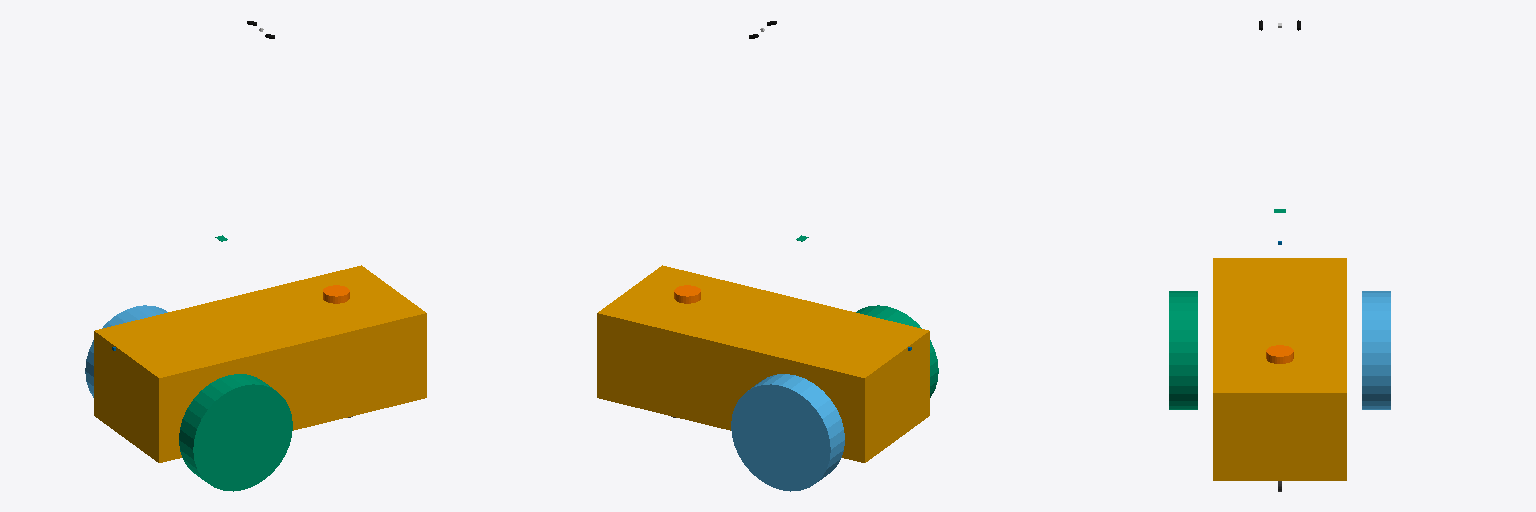
URDF robot description (adam):
<?xml version="1.0"?>

<robot name="adam">
    <link name="base_link">
        <inertial>
            <origin xyz="-0.074 0.0 -0.19" rpy="0 0 -1.57"/>
            <mass value="60"/>
            <inertia ixx="2.529" ixy="-0.004768" ixz="-0.8146" iyy="4.984" iyx="-0.004768" iyz="-0.02831" izz="4.385" izx="-0.8146" izy="-0.02831"/>
        </inertial>

        <collision>
            <origin xyz="0.1465 0 -0.082" rpy="0 0 0"/>
            <geometry>
                <box size="1.02 0.43 0.31" />
            </geometry>
        </collision>

        <visual>
            <origin xyz="0.1465 0 -0.082" rpy="0 0 0"/>
            <geometry>
                <box size="1.02 0.43 0.31" />
            </geometry>
        </visual>
    </link>

    <link name="left_wheel_back">
        <inertial>
            <origin rpy="0 0 0" xyz="0 0 0"/>
            <mass value="4.0"/>
            <inertia ixx="0.08847" ixy="0" ixz="0" iyy="0.1693" iyx="0" iyz="0" izz="0.08847" izx="0" izy="0"/>
        </inertial>

        <collision>
            <origin xyz="0 0 0" rpy="1.57 0 0"/>
            <geometry>
                <cylinder length="0.095" radius="0.19"/>
            </geometry>
        </collision>

        <visual>
            <origin xyz="0 0 0" rpy="1.57 0 0"/>
            <geometry>
                <cylinder length="0.095" radius="0.19"/>
            </geometry>
        </visual>
    </link>

    <link name="right_wheel_back">
        <inertial>
            <origin rpy="0 0 0" xyz="0 0 0"/>
            <mass value="4.0"/>
            <inertia ixx="0.08847" ixy="0" ixz="0" iyy="0.1693" iyx="0" iyz="0" izz="0.08847" izx="0" izy="0"/>
        </inertial>

        <collision>
            <origin xyz="0 0 0" rpy="1.57 0 0"/>
            <geometry>
                <cylinder length="0.095" radius="0.19"/>
            </geometry>
        </collision>

        <visual>
            <origin xyz="0 0 0" rpy="1.57 0 0"/>
            <geometry>
                <cylinder length="0.095" radius="0.19"/>
            </geometry>
        </visual>
    </link>

    <joint name="base_link_to_left_wheel_back" type="continuous">
        <parent link="base_link" />
        <child link="left_wheel_back" />
        <origin xyz="-0.125 0.309 -0.1425"/>
        <axis xyz="0 1 0"/>
    </joint>

    <joint name="base_link_to_right_wheel_back" type="continuous">
        <parent link="base_link" />
        <child link="right_wheel_back" />
        <origin xyz="-0.125 -0.309 -0.1425"/>
        <axis xyz="0 1 0"/>
    </joint>

    <link name="front_wheel_conn">
        <inertial>
            <origin xyz="0.0 0 0" rpy="0 0 0"/>
            <mass value="0.100"/>
            <inertia ixx="0.0001785" ixy="0" ixz="0" iyy="0.0001757" iyx="0" iyz="0" izz="0.00007551" izx="0" izy="0"/>
        </inertial>

        <visual>
            <origin xyz="0 0 0" rpy="0 0 0"/>
            <geometry>
                <box size="0.0499 0.044 0.05215"/>
            </geometry>
        </visual>

        <collision>
            <origin xyz="0 0 0" rpy="0 0 0"/>
            <geometry>
                <box size="0.0499 0.044 0.05215"/>
            </geometry>
        </collision>
    </link>

    <joint name="wheel_front_conn" type="continuous">
        <parent link="base_link"/>
        <child link="front_wheel_conn"/>
        <origin xyz="0.4616 0.0 -0.28815"/>
        <axis xyz="0 0 1"/>
    </joint>


    <link name="wheel_front">
        <inertial>
            <origin xyz="0.0 0 0" rpy="1.57 0 0"/>
            <mass value="0.100"/>
            <inertia ixx="0.0003521" ixy="0" ixz="0" iyy="0.0004586" iyx="0" iyz="0" izz="0.0003521" izx="0" izy="0"/>
        </inertial>

        <visual>
            <origin xyz="0.0 0 0" rpy="1.57 0 0"/>
            <geometry>
                <cylinder length="0.01" radius="0.032"/>
            </geometry>
            <material name="Gray">
                <color rgba="0.3 0.3 0.3 1.0"/>
            </material>
        </visual>
        <collision>
            <origin xyz="0.0 0 0" rpy="1.57 0 0"/>

            <geometry>
                <cylinder length="0.01" radius="0.032"/>
            </geometry>
        </collision>
    </link>

    <joint name="wheel_front_to_conn" type="continuous">
        <parent link="front_wheel_conn"/>
        <child link="wheel_front"/>
        <origin xyz="0.02 0 -0.034"/>
        <axis xyz="0 1 0"/>
    </joint>

    <link name="base_scan_link" type="laser">
        <visual>
            <origin rpy="0 0 0" xyz="0 0 0"/>
            <geometry>
                <cylinder radius="0.044" length="0.026"/>
            </geometry>
            <material name="Orange">
                <color rgba="1.0 0.5 0.0 1.0"/>
            </material>
        </visual>
    </link>


    <!--LASER JOINTS-->
    <joint name="base_laser_base" type="fixed">
        <parent link="base_link"/>
        <child link="base_scan_link"/>
        <origin xyz="0.436 0 0.105" rpy="0 0 0"/>
    </joint>


    <link name="zed_left_camera">
        <visual>
            <origin xyz="0 0 0" rpy="0 1.57 0"/>
            <geometry>
                <cylinder radius="0.007" length=".031"/>
            </geometry>
            <material name="dark_grey">
                <color rgba="0.1 0.1 0.1 1"/>
            </material>
        </visual>
    </link>
    <link name="zed_center">
        <visual>
            <origin xyz="0 0 0" rpy="0 0 0"/>
            <geometry>
                <box size="0.01 0.01 0.01"/>
            </geometry>
            <material name="light_grey">
                <color rgba="0.8 0.8 0.8 0.8"/>
            </material>
        </visual>
    </link>
    <link name="zed_right_camera">
        <visual>
            <origin xyz="0 0 0" rpy="0 1.57 0"/>
            <geometry>
                <cylinder radius="0.007" length=".031"/>
            </geometry>
            <material name="dark_grey">
                <color rgba="0.1 0.1 0.1 1"/>
            </material>
        </visual>
    </link>
    <link name="zed_depth_camera" />

    <joint name="zed_left_camera_joint" type="fixed">
        <parent link="zed_center"/>
        <child link="zed_left_camera"/>
        <origin xyz="0 0.06 0" rpy="0 0 0" />
    </joint>
    <joint name="zed_depth_camera_joint" type="fixed">
        <parent link="zed_left_camera"/>
        <child link="zed_depth_camera"/>
        <origin xyz="0 0 0" rpy="-1.5707963267948966 0 -1.5707963267948966" />
    </joint>

    <joint name="zed_right_camera_joint" type="fixed">
        <parent link="zed_center"/>
        <child link="zed_right_camera"/>
        <origin xyz="0 -0.06 0" rpy="0 0 0" />
    </joint>

    <joint name="zed_camera_to_base_link" type="fixed">
        <origin xyz="0.15 0 1.135" rpy="0 0.3839 0" />
        <parent link="base_link" />
        <child link="zed_center" />
    </joint>

    <link name="imu_link">
        <visual>
            <origin rpy="0 0 0" xyz="0 0 0"/>
            <geometry>
                <box size="0.0275 0.04 0.001"/>
            </geometry>
        </visual>

        <collision>
            <origin rpy="0 0 0" xyz="0 0 0.41"/>
            <geometry>
                <box size=".001 .001 .001"/>
            </geometry>
        </collision>
    </link>

    <joint name="imu_joint" type="fixed">
        <origin xyz="0 0 0.41"/>
        <parent link="base_link"/>
        <child link="imu_link"/>
    </joint>

    <link name="gps_link">
        <visual>
        <origin xyz="0.1 0.1 0" rpy="0 0 0"/>
        <geometry>
            <box size="0.01 0.01 0.01"/>
        </geometry>
        </visual>
    <collision>
    <origin xyz="0.1 0.1 0" rpy="0 0 0"/>
        <geometry>
            <box size="0.01 0.01 0.01"/>
        </geometry>
        </collision>
    </link>

    <joint name="gps_joint" type="fixed">
        <axis xyz="1 0 0"/>
        <origin xyz="0.1 0.1 0"/>
        <parent link="base_link"/>
        <child link="gps_link"/>
    </joint>

    <link name="ultrasonic_link">
        <visual>
            <origin xyz="0 0 0" rpy="0 0 0"/>
        <geometry>
                <box size="0.01 0.01 0.01"/>
            </geometry>
        </visual>

        <collision>
            <origin xyz="0 0 0" rpy="0 0 0"/>
            <geometry>
                <box size="0.01 0.01 0.01"/>
            </geometry>
        </collision>
    </link>

    <joint name="ultrasonic_base_joint" type="fixed">
        <parent link="base_link"/>
        <child link="ultrasonic_link"/>
        <origin xyz="-0.41 0 0.105" rpy="0 0 3.14"/>
    </joint>



<!-- Gazebo Plugins -->

    <gazebo>
        <plugin name="differential_drive_controller" filename="libgazebo_ros_diff_drive.so">
            <publishWheelTF>false</publishWheelTF>
            <publishWheelJointState>false</publishWheelJointState>
            <alwaysOn>true</alwaysOn>
            <updateRate>10</updateRate>
            <wheelAcceleration>0</wheelAcceleration>
            <rosDebugLevel>Debug</rosDebugLevel>
            <wheelTorque>12</wheelTorque>

            <leftJoint>base_link_to_left_wheel_back</leftJoint>
            <rightJoint>base_link_to_right_wheel_back</rightJoint>
            <wheelSeparation>0.6</wheelSeparation>
            <wheelDiameter>0.38</wheelDiameter>
            <commandTopic>cmd_vel</commandTopic>
            <odometryFrame>odom</odometryFrame>
            <odometryTopic>odom</odometryTopic>
            <robotBaseFrame>base_link</robotBaseFrame>
            <legacyMode>false</legacyMode>
        </plugin>
    </gazebo>

    <gazebo reference="base_scan_link">
        <sensor type="ray" name="laser">
            <always_on>true</always_on>
            <update_rate>10</update_rate>
            <visualize>true</visualize>
            <ray>
                <scan>
                    <horizontal>
                        <samples>640</samples>
                        <resolution>1</resolution>
                        <min_angle>-2.35</min_angle>
                        <max_angle>2.35</max_angle>
                    </horizontal>
                </scan>
                <range>
                    <min>0.5</min>
                    <max>100.0</max>
                    <resolution>0.5</resolution>
                </range>
                <noise>
                    <type>gaussian</type>
                    <mean>0.0</mean>
                    <stddev>0.01</stddev>
                </noise>
            </ray>
            <plugin name="gazebo_ros_base_scan_link_controller" filename="libgazebo_ros_laser.so">
                <topicName>/scan</topicName>
                <frameName>base_scan_link</frameName>
                <robotBaseFrame>base_link</robotBaseFrame>
            </plugin>
        </sensor>
    </gazebo>
    

    <gazebo reference="ultrasonic_link">
        <sensor type="ray" name="sonar">
          <pose>0 0 0 0 0 0</pose>
          <update_rate>5</update_rate>
          <ray>
            <scan>
              <horizontal>
                <samples>5</samples>
                <resolution>1.0</resolution>
                <min_angle>-0.25</min_angle>
                <max_angle>0.25</max_angle>
              </horizontal>
              <vertical>
                <samples>5</samples>
                <resolution>1</resolution>
                <min_angle>-0.25</min_angle>
                <max_angle>0.25</max_angle>
              </vertical>
            </scan>
            <range>
              <min>0.01</min>
              <max>0.75</max>
              <resolution>0.01</resolution>
            </range>
          </ray>
          <plugin filename="libgazebo_ros_range.so" name="gazebo_ros_range">
            <gaussianNoise>0.005</gaussianNoise>
            <alwaysOn>true</alwaysOn>
            <updateRate>5</updateRate>
            <topicName>ultrasonic</topicName>
            <frameName>ultrasonic_link</frameName>
            <fov>0.5</fov>
            <radiation>ultrasound</radiation>
          </plugin>
        </sensor>
    </gazebo>

    <gazebo reference="zed_left_camera">
        <sensor type="depth" name="stereocamera">
            <always_on>1</always_on>
            <visualize>true</visualize>
            <camera>
                <horizontal_fov>1.92</horizontal_fov>
                <image>
                    <width>2560</width>
                    <height>720</height>
                    <format>R8G8B8</format>
                </image>
                <depth_camera>
                </depth_camera>
                <clip>
                    <near>0.5</near>
                    <far>20</far>
                </clip>
                <noise>
                    <type>gaussian</type>
                    <mean>0.0</mean>
                    <stddev>0.05</stddev>
                </noise>
            </camera>
            <plugin name="camera_controller" filename="libgazebo_ros_depth_camera.so">
                <alwaysOn>true</alwaysOn>
                <updateRate>10.0</updateRate>
                <cameraName>zed</cameraName>
                <frameName>zed_depth_camera</frameName>
                <imageTopicName>rgb/image_raw</imageTopicName>
                <depthImageTopicName>depth/image_raw</depthImageTopicName>
                <pointCloudTopicName>depth/points</pointCloudTopicName>
                <cameraInfoTopicName>rgb/camera_info</cameraInfoTopicName>
                <depthImageCameraInfoTopicName>depth/camera_info</depthImageCameraInfoTopicName>
                <pointCloudCutoff>0.5</pointCloudCutoff>
                <hackBaseline>0.07</hackBaseline>
                <distortionK1>0.00001</distortionK1>
                <distortionK2>0.00001</distortionK2>
                <distortionK3>0.00001</distortionK3>
                <distortionT1>0.00001</distortionT1>
                <distortionT2>0.00001</distortionT2>
                <CxPrime>0.0</CxPrime>
                <Cx>360</Cx>
                <Cy>240</Cy>
                <focalLength>0.0</focalLength>
                <hackBaseline>0</hackBaseline>
            </plugin>
        </sensor>
    </gazebo>

    <gazebo>
        <plugin name="imu_controller" filename="libgazebo_ros_imu.so">
            <alwaysOn>true</alwaysOn>
            <updateRate>25.0</updateRate>
            <bodyName>imu_link</bodyName>
            <topicName>imu</topicName>
            <serviceName>imu</serviceName>
            <frameName>imu</frameName>
            <gaussianNoise>0.0</gaussianNoise>
            <xyzOffsets>0 0 0</xyzOffsets>
            <rpyOffsets>0 0 0</rpyOffsets>
        </plugin>
    </gazebo>

    <gazebo>
    <plugin name="gps_controller" filename="libhector_gazebo_ros_gps.so">
    <updateRate>50.0</updateRate>
    <bodyName>base_link</bodyName>
    <alwaysOn>true</alwaysOn>
    <topicName>gps</topicName>
    <serviceName>gps_service</serviceName>
    <velocityTopicName>gps_velocity</velocityTopicName>
    <drift>0.0 0.0 0.0</drift>
    <gaussianNoise>0.0 0.0 0.0</gaussianNoise>
    <velocityDrift>0 0 0</velocityDrift>
    <velocityGaussianNoise>0.0 0.0 0.0</velocityGaussianNoise>
    </plugin>
    </gazebo>


</robot>

--- What the picture shows (computed from the rendered views, not written in the file) ---
3 views of the same robot in one strip: view 1: azimuth 30°, elevation 25°; view 2: azimuth 150°, elevation 25°; view 3: azimuth 270°, elevation 25° (orthographic).
Model adam with 13 links and 12 joints (4 continuous, 8 fixed), rooted at base_link, posed all joints at 0.
Visible links, largest first — view 1: base_link, right_wheel_back, left_wheel_back; view 2: base_link, left_wheel_back, right_wheel_back; view 3: base_link, left_wheel_back, right_wheel_back.
Link boxes in pixels (bbox=[...]): base_link: bbox=[94, 265, 426, 462]; right_wheel_back: bbox=[179, 374, 292, 491]; left_wheel_back: bbox=[85, 305, 167, 397]; base_link: bbox=[597, 265, 929, 462]; left_wheel_back: bbox=[731, 374, 844, 491]; right_wheel_back: bbox=[856, 305, 938, 397]; base_link: bbox=[1213, 258, 1346, 480]; left_wheel_back: bbox=[1362, 291, 1390, 409]; right_wheel_back: bbox=[1169, 291, 1197, 409].
Size in the robot's own frame: 1.07 by 0.7133 by 1.5 metres.
Geometry: primitives only (box / cylinder / sphere), no mesh files.
